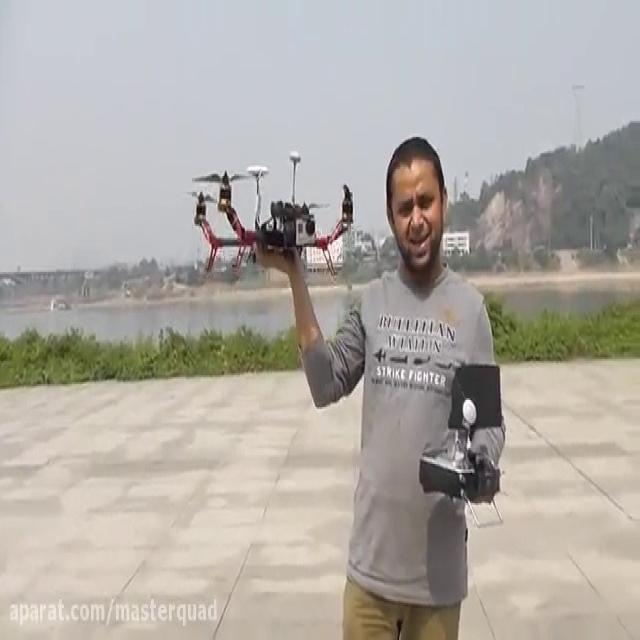drone: (180, 146, 358, 276)
